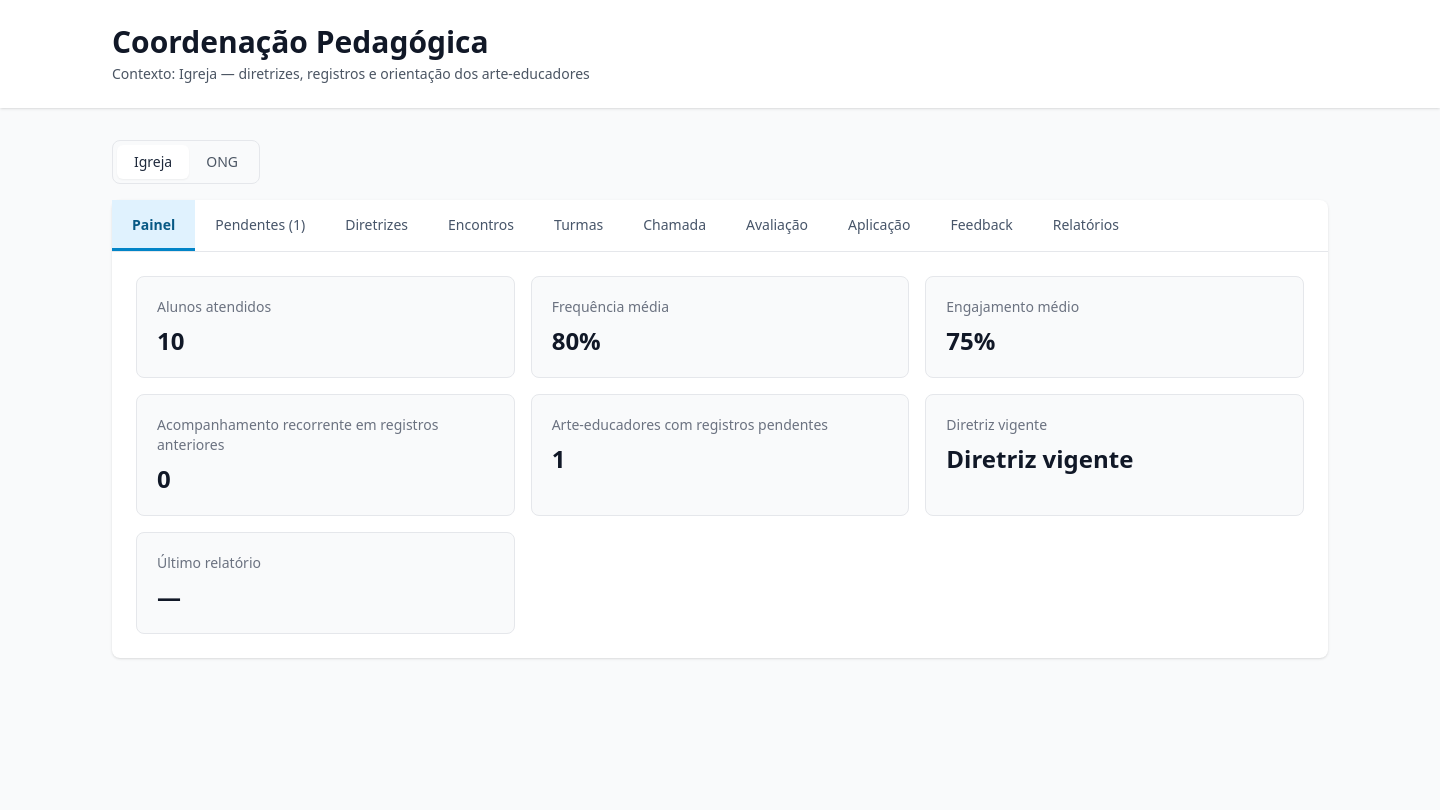
Test: PedagogyManagementPage pending educators tab › lists educators without a session record on the Pendentes tab
The width and height of the screenshot is (1440, 810).
Click the tab "Pendentes (1)" at (260,226), box [195,200,325,251]
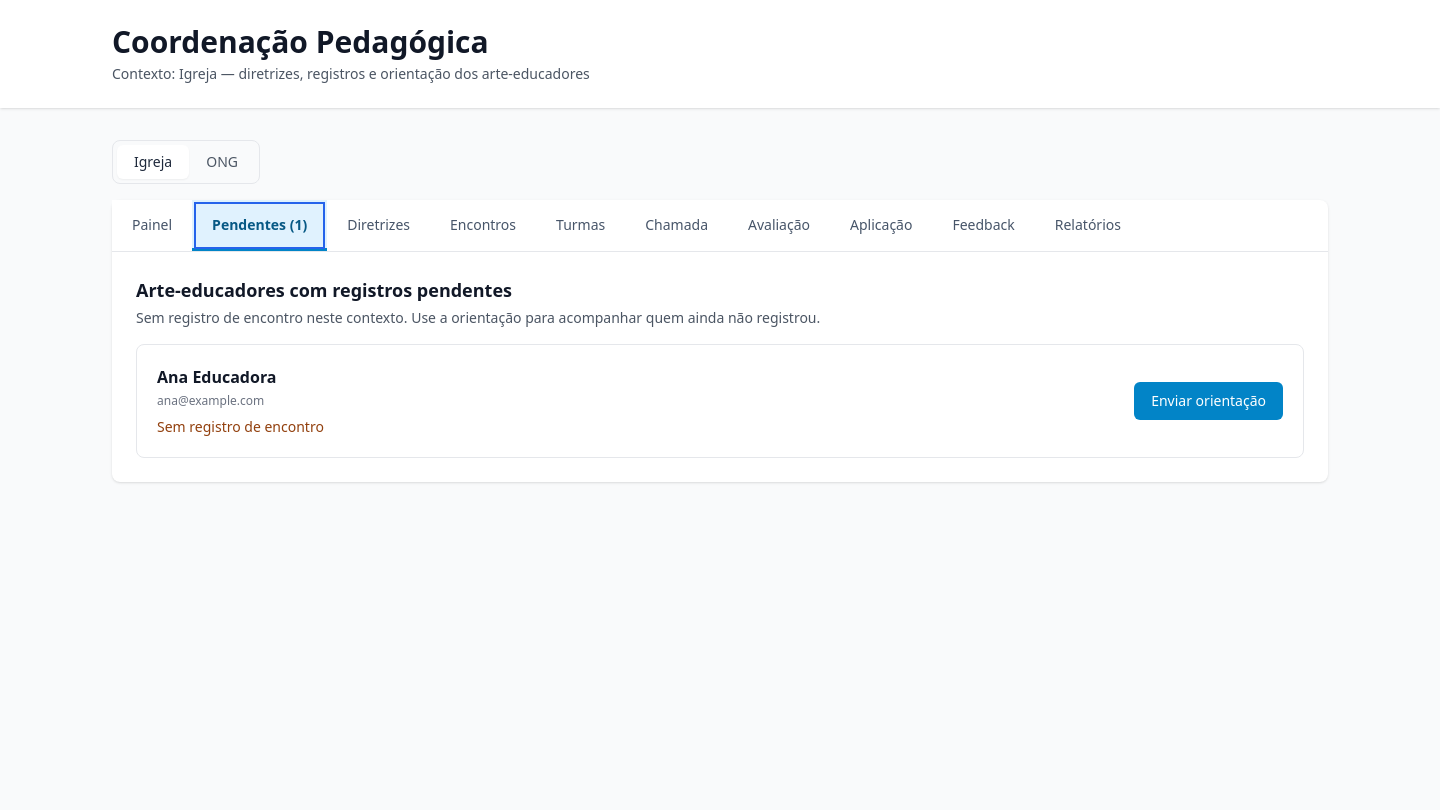
expect the heading "Ana Educadora" is shown: met, box [157,366,276,388]
expect the text "ana@example.com" is shown: met, box [157,392,264,409]
